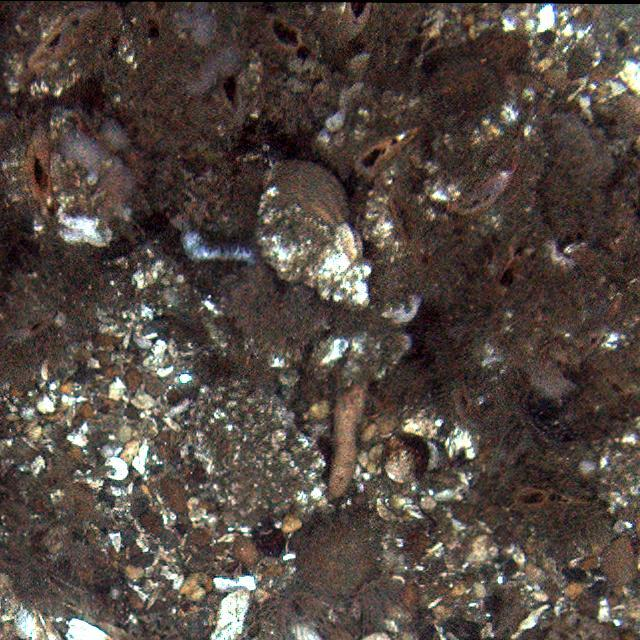whelk: (250, 157, 376, 310)
